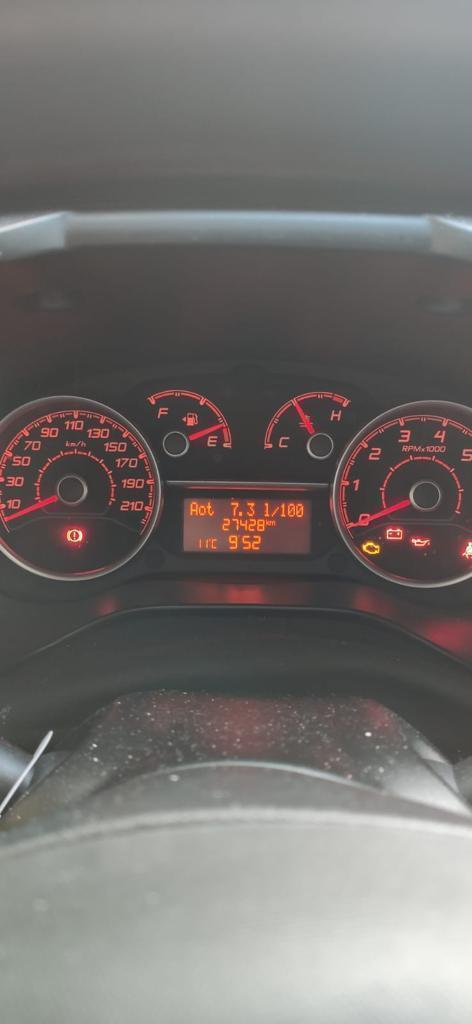,: (237, 509, 243, 516)
0: (287, 502, 295, 517), (295, 502, 303, 517)
1: (280, 501, 286, 519), (198, 536, 202, 549), (205, 537, 208, 550)
2: (252, 534, 262, 550), (222, 518, 230, 531), (248, 518, 256, 531)
3: (246, 501, 255, 516)
4: (239, 518, 247, 532)
5: (241, 535, 251, 549)
7: (230, 501, 239, 516), (231, 518, 239, 531)
8: (256, 518, 264, 531)
9: (228, 535, 238, 549)
X: (190, 500, 198, 516), (206, 501, 214, 517), (264, 501, 270, 518), (198, 504, 206, 516), (271, 505, 279, 517), (211, 537, 218, 549), (269, 520, 275, 526), (265, 518, 269, 526)
odometer: (177, 494, 315, 557)
